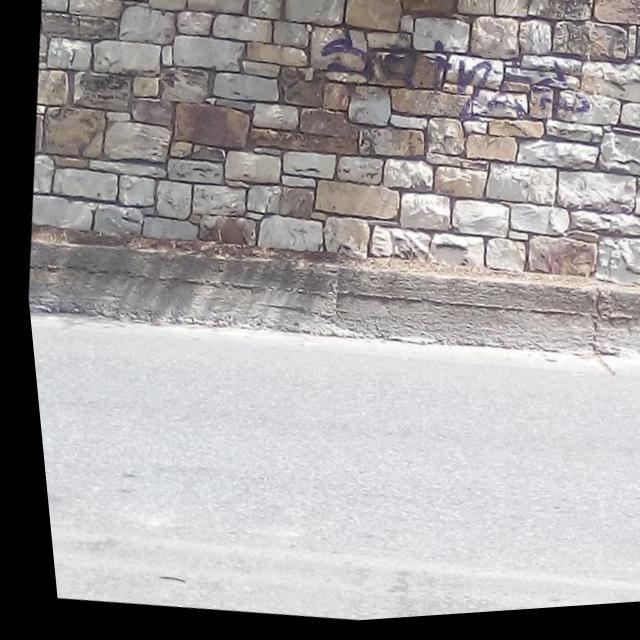-: (308, 13, 598, 154)
